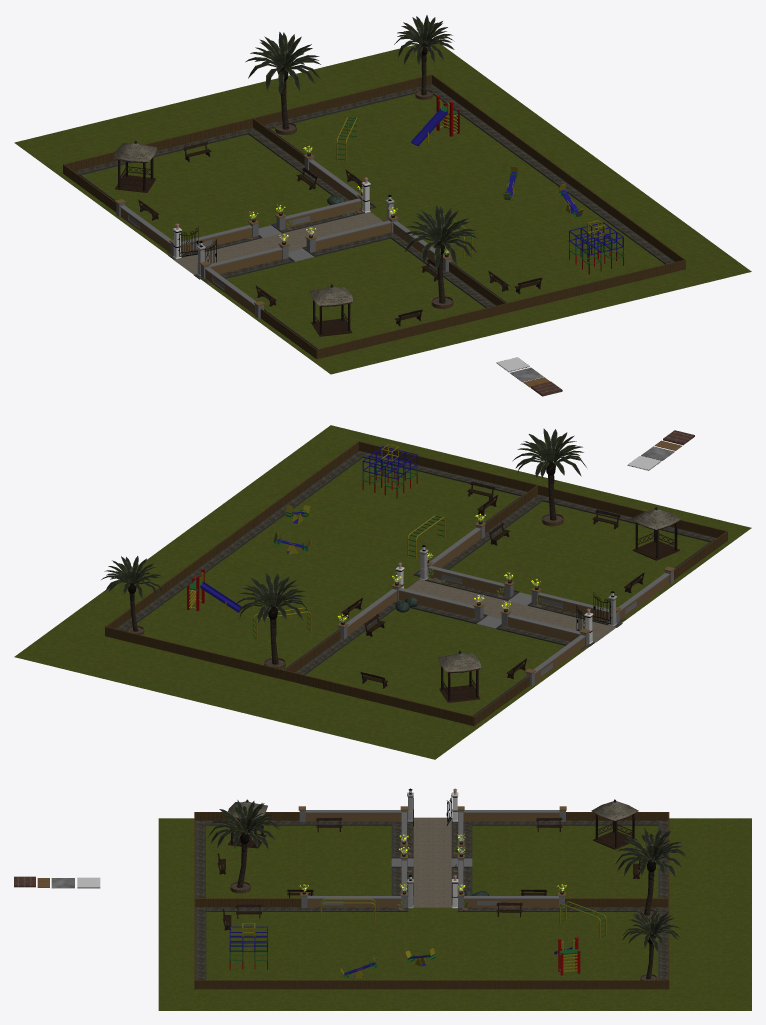
3 views of the same model, one above another, from view 1: azimuth 30°, elevation 25°; view 2: azimuth 150°, elevation 25°; view 3: azimuth 270°, elevation 25° (orthographic). The views are drawn at different scales.
Parts seen in each view (by area): view 1: Ground_Base, Fences, Wall, Fences1, Road, Palm_Tree6, Palm_Tree4, Palm_Tree5, Hut_Type_B, Hut_Type_B (1), Ride03, Boder10 (+10 smaller); view 2: Ground_Base, Fences, Wall, Fences1, Road, Palm_Tree6, Palm_Tree4, Hut_Type_B (1), Palm_Tree5, Hut_Type_B, Ride03, Boder10 (+11 smaller); view 3: Ground_Base, Fences, Wall, Road, Palm_Tree6, Palm_Tree4, Mud3, Fences1, Mud2, Hut_Type_B, Palm_Tree5, Mud1 (+13 smaller).
Boxes of the visible parts, x1,y1,x2,y2 form: Ground_Base: (14, 44, 751, 374); Fences: (252, 74, 685, 313); Wall: (120, 160, 443, 314); Fences1: (63, 118, 506, 359); Road: (173, 212, 383, 274); Palm_Tree6: (402, 205, 477, 308); Palm_Tree4: (245, 32, 320, 134); Palm_Tree5: (394, 15, 454, 99); Hut_Type_B: (113, 140, 157, 192); Hut_Type_B (1): (309, 284, 353, 336); Ride03: (568, 220, 623, 274); Boder10: (267, 89, 666, 303); Ground_Base: (14, 425, 751, 759); Fences: (105, 441, 538, 679); Wall: (346, 527, 669, 682); Fences1: (284, 485, 727, 726); Road: (406, 579, 616, 642); Palm_Tree6: (512, 428, 586, 526); Palm_Tree4: (234, 573, 309, 669); Hut_Type_B (1): (631, 507, 681, 560); Palm_Tree5: (101, 556, 163, 635); Hut_Type_B: (437, 650, 481, 702); Ride03: (362, 444, 417, 498); Boder10: (124, 456, 522, 669); Ground_Base: (158, 818, 751, 1010); Fences: (194, 898, 669, 989); Wall: (305, 810, 559, 907); Road: (413, 817, 452, 907); Palm_Tree6: (208, 800, 279, 893); Palm_Tree4: (614, 827, 686, 920); Mud3: (195, 820, 401, 898); Fences1: (194, 812, 669, 898); Mud2: (195, 907, 668, 989); Hut_Type_B: (591, 799, 638, 849); Palm_Tree5: (622, 908, 680, 980); Mud1: (463, 820, 668, 898).
Bounding box in the file's own units: 41.36 × 8.83 × 66.89.
Materials: 27 (17 with a texture image).
